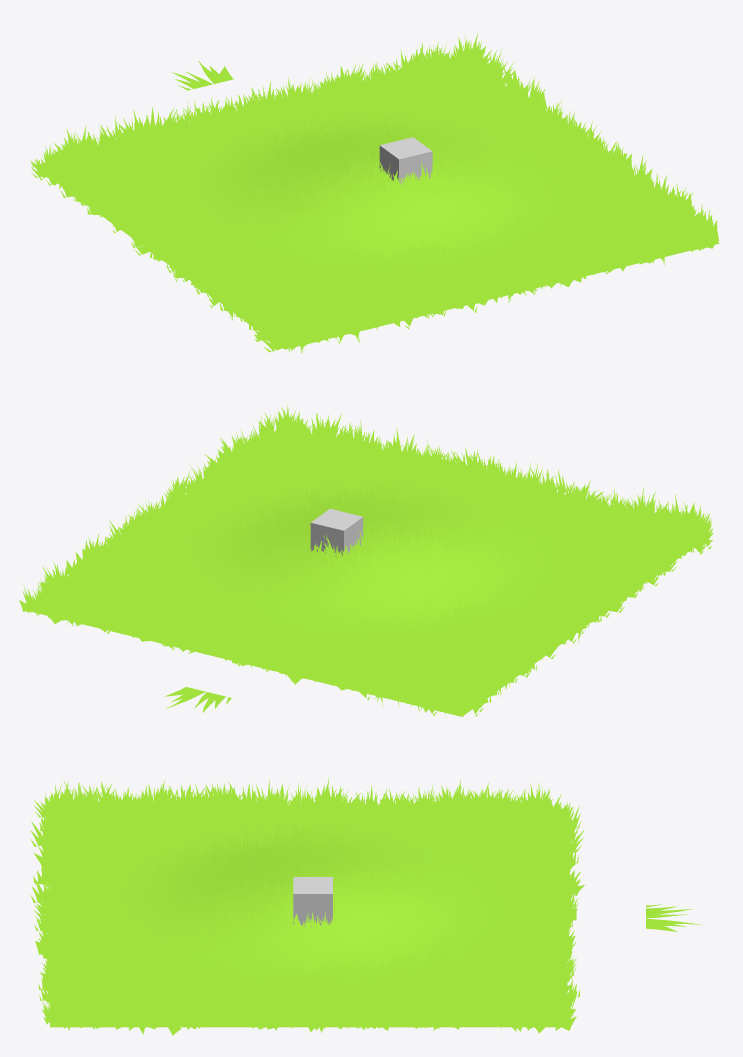
The model's file is lv-grass.fbx.
3 views of the same model, one above another, from view 1: azimuth 30°, elevation 25°; view 2: azimuth 150°, elevation 25°; view 3: azimuth 270°, elevation 25° (orthographic). The views are drawn at different scales.
Parts seen in each view (by area): view 1: Plane.002, Cube, ground, Plane.001; view 2: Plane.002, Cube, ground, Plane.001; view 3: Plane.002, Cube, ground, Plane.001.
Boxes of the visible parts, bbox=[...] form: Plane.002: bbox=[30, 33, 719, 353]; Cube: bbox=[379, 137, 432, 184]; ground: bbox=[36, 112, 719, 349]; Plane.001: bbox=[172, 61, 233, 90]; Plane.002: bbox=[19, 404, 713, 717]; Cube: bbox=[310, 508, 363, 557]; ground: bbox=[31, 430, 710, 716]; Plane.001: bbox=[165, 687, 231, 712]; Plane.002: bbox=[30, 777, 584, 1035]; Cube: bbox=[293, 877, 332, 927]; ground: bbox=[50, 808, 567, 1027]; Plane.001: bbox=[646, 904, 701, 931].
Bounding box in the file's own units: 2946 × 402 × 3597.
